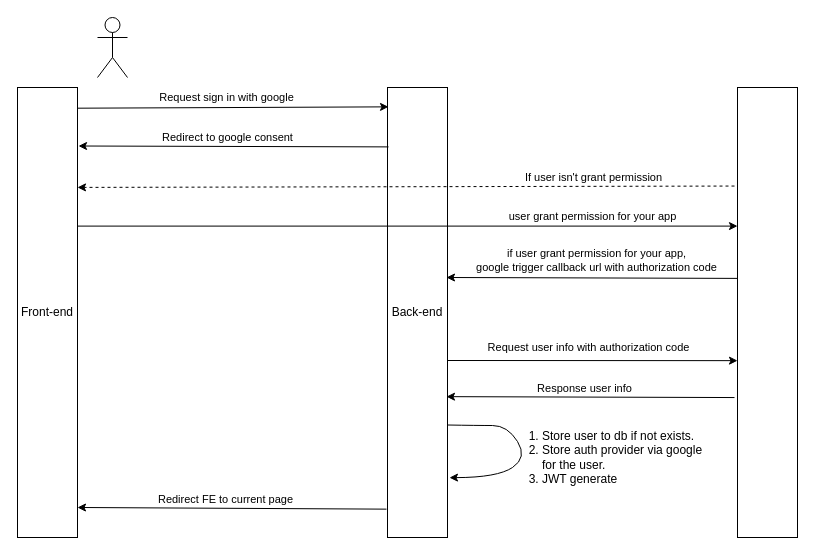
Image size: 815x555. Some labels were removed from this diagram. Each missing label, with the centre of its shape:
"Google API" goes at pixel 767 312.
"User" goes at pixel 112 47.
